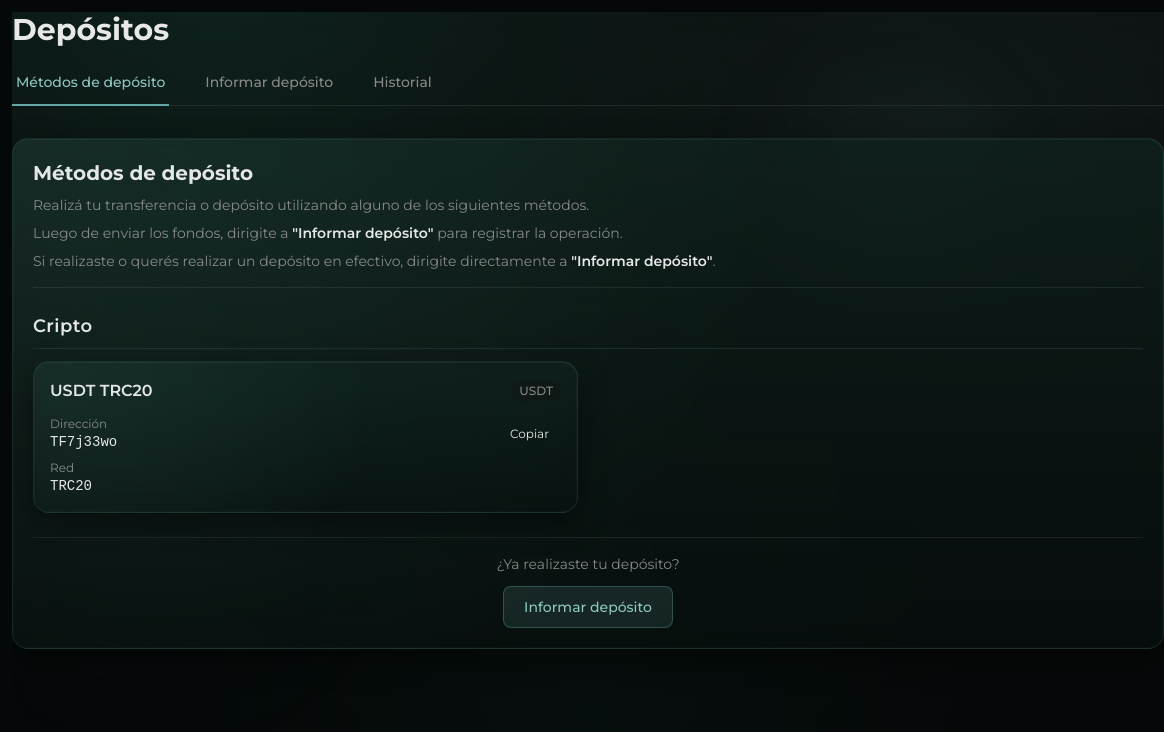
WalletsPage › shows empty state in history tab when no deposits
Click the button "Historial": x=402, y=89 [369, 72, 436, 106]
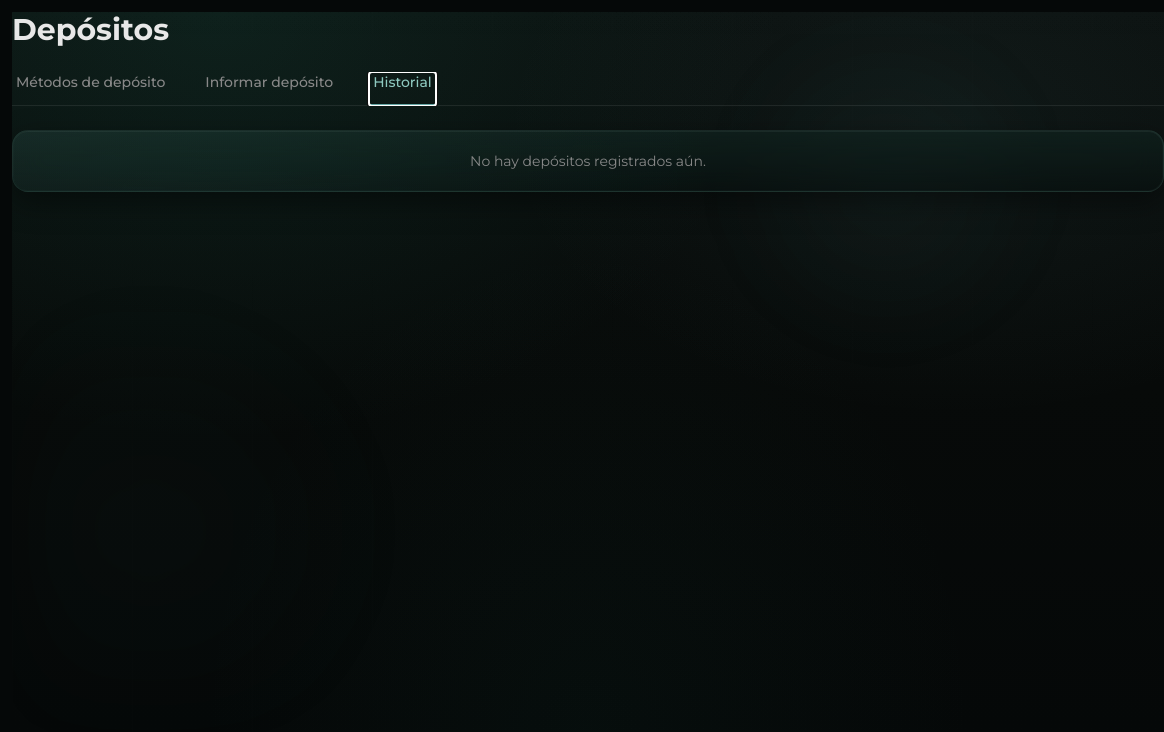
Check: the text "No hay depósitos registrados aún." is shown, box [12, 130, 1163, 192]
